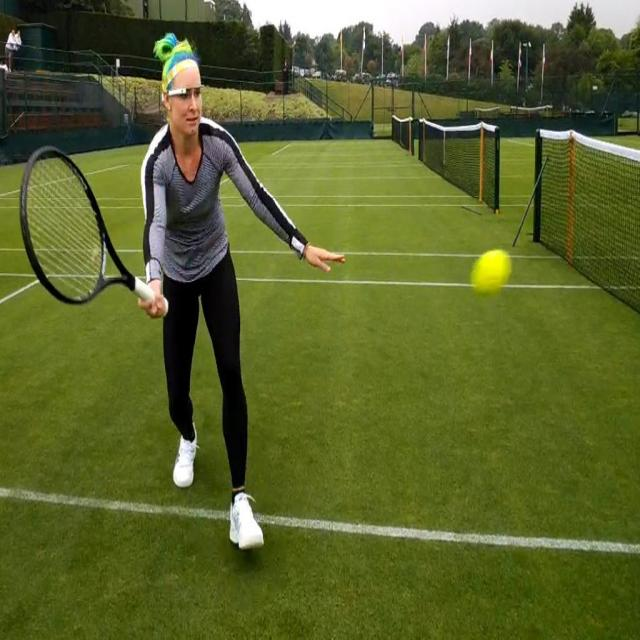nomask: (170, 65, 201, 134), (17, 29, 19, 36), (12, 29, 14, 35)
